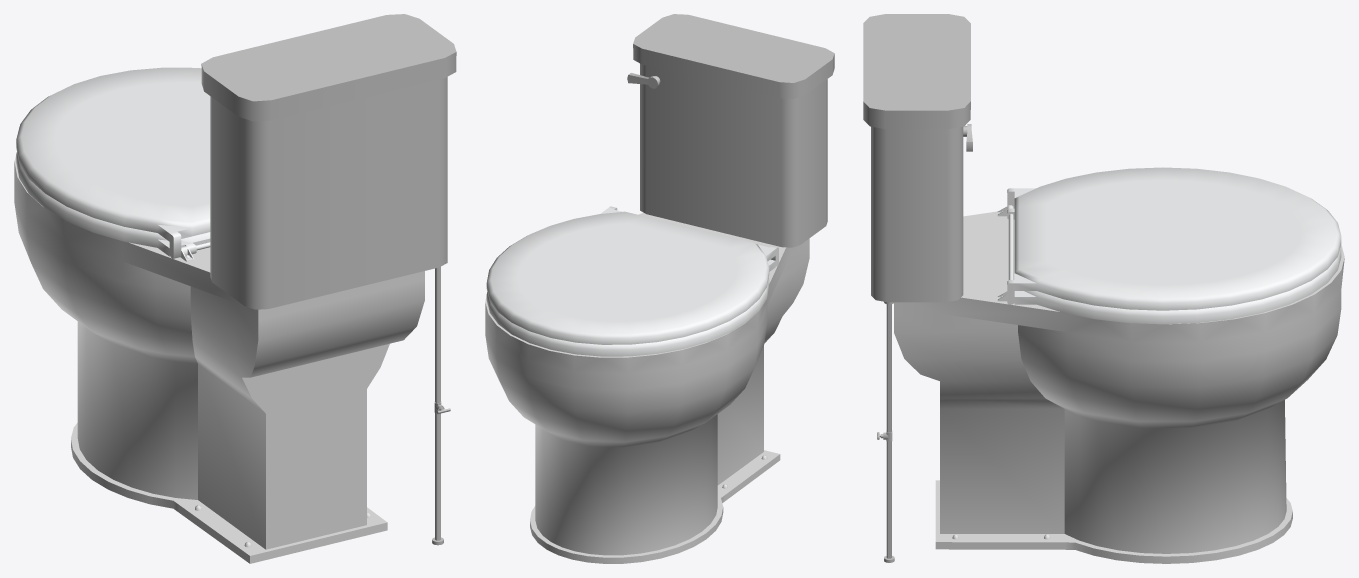
The model's file is Toilet_Elongated_A.fbx.
3 renders of one model, left to right at view 1: azimuth 30°, elevation 25°; view 2: azimuth 150°, elevation 25°; view 3: azimuth 270°, elevation 25°, orthographic. The views are drawn at different scales.
Parts seen in each view (by area): view 1: Toilet_Elongated_A, Toilet_Elongated_A_Seat_Cover, Toilet_Elongated_A_Seat; view 2: Toilet_Elongated_A, Toilet_Elongated_A_Seat_Cover, Toilet_Elongated_A_Seat; view 3: Toilet_Elongated_A, Toilet_Elongated_A_Seat_Cover, Toilet_Elongated_A_Seat.
Part boxes in pixels (left/top/right/bottom): Toilet_Elongated_A: left=14, top=14, right=456, bottom=563; Toilet_Elongated_A_Seat_Cover: left=16, top=67, right=210, bottom=258; Toilet_Elongated_A_Seat: left=16, top=152, right=210, bottom=261; Toilet_Elongated_A: left=485, top=14, right=834, bottom=563; Toilet_Elongated_A_Seat_Cover: left=486, top=206, right=778, bottom=344; Toilet_Elongated_A_Seat: left=486, top=259, right=775, bottom=356; Toilet_Elongated_A: left=863, top=14, right=1344, bottom=563; Toilet_Elongated_A_Seat_Cover: left=1007, top=167, right=1341, bottom=310; Toilet_Elongated_A_Seat: left=997, top=205, right=1341, bottom=324.
Size of the model in its own units: 0.4191 by 0.6344 by 0.6633.
